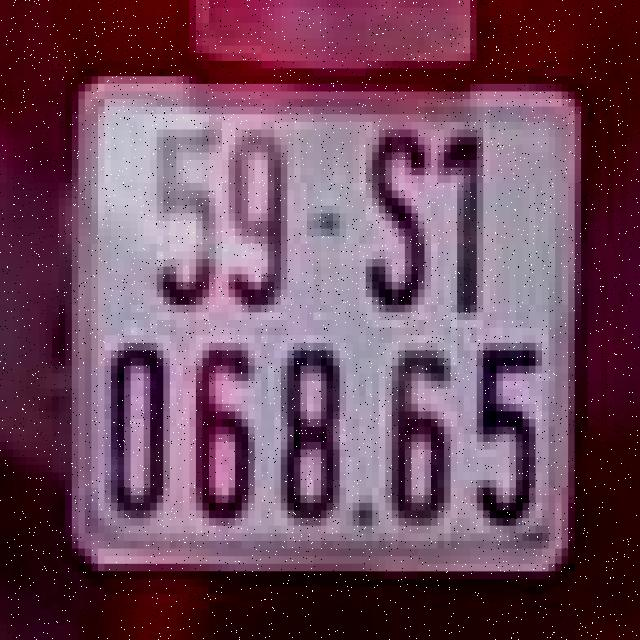0: (101, 331, 180, 522)
1: (438, 111, 490, 316)
5: (464, 332, 548, 537), (144, 122, 222, 320)
6: (379, 320, 457, 541), (186, 328, 265, 526)
8: (278, 328, 350, 541)
9: (225, 110, 291, 324)
S: (359, 114, 431, 328)
